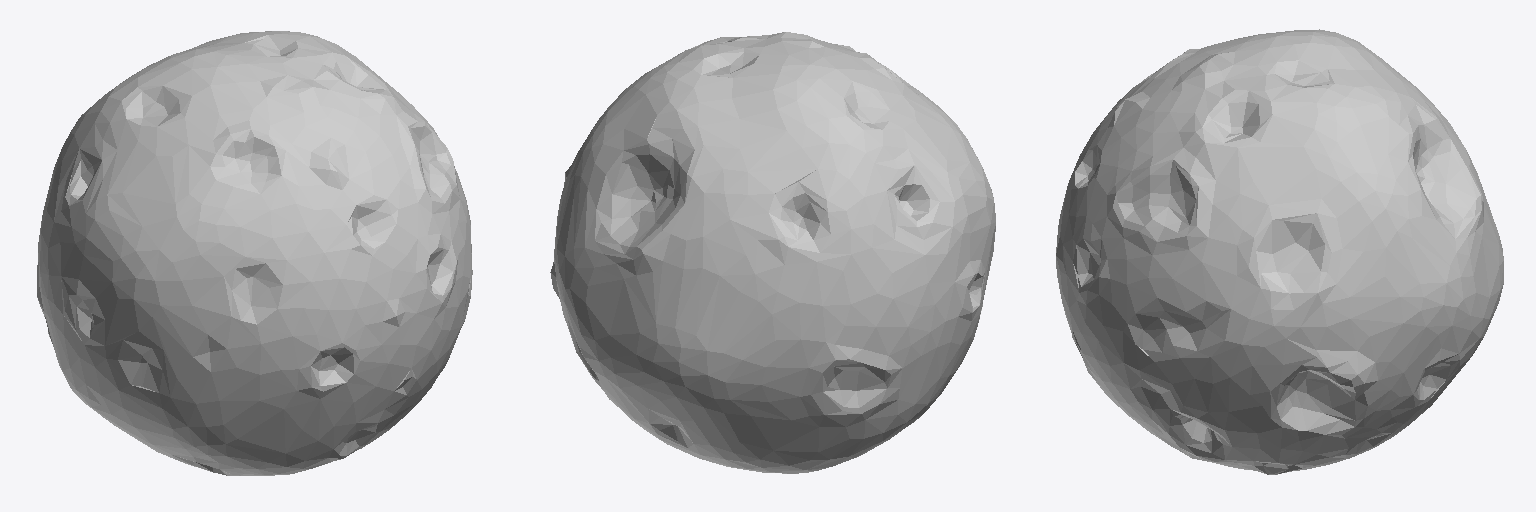
Rendered from Moon-Lowpoly.obj.
The picture shows the model from 3 angles: view 1: azimuth 30°, elevation 25°; view 2: azimuth 150°, elevation 25°; view 3: azimuth 270°, elevation 25°; orthographic projection.
Parts seen in each view (by area): view 1: Quad_Sphere_low; view 2: Quad_Sphere_low; view 3: Quad_Sphere_low.
Boxes of the visible parts, box(x1,y1,x2,y2) form: Quad_Sphere_low: box(37, 31, 472, 475); Quad_Sphere_low: box(550, 32, 995, 473); Quad_Sphere_low: box(1056, 29, 1503, 474).
Bounding box in the file's own units: 2.63 × 2.61 × 2.64.